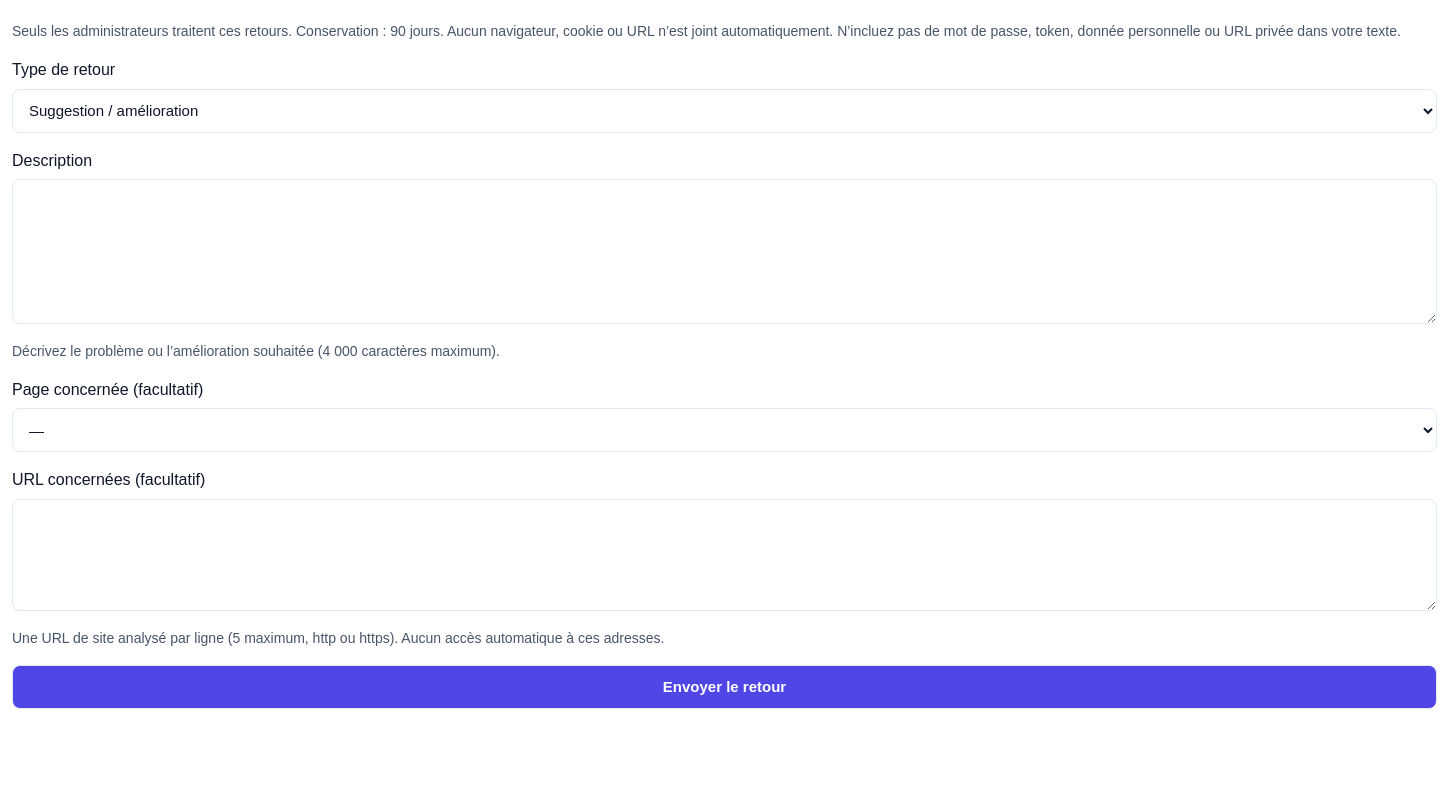
Test: explains a server-side anti-bot refusal and preserves the message for a fresh attempt
Step 1. Type "Preserved draft" into the text box labelled "Description" → (724, 251), box [12,179,1437,324]
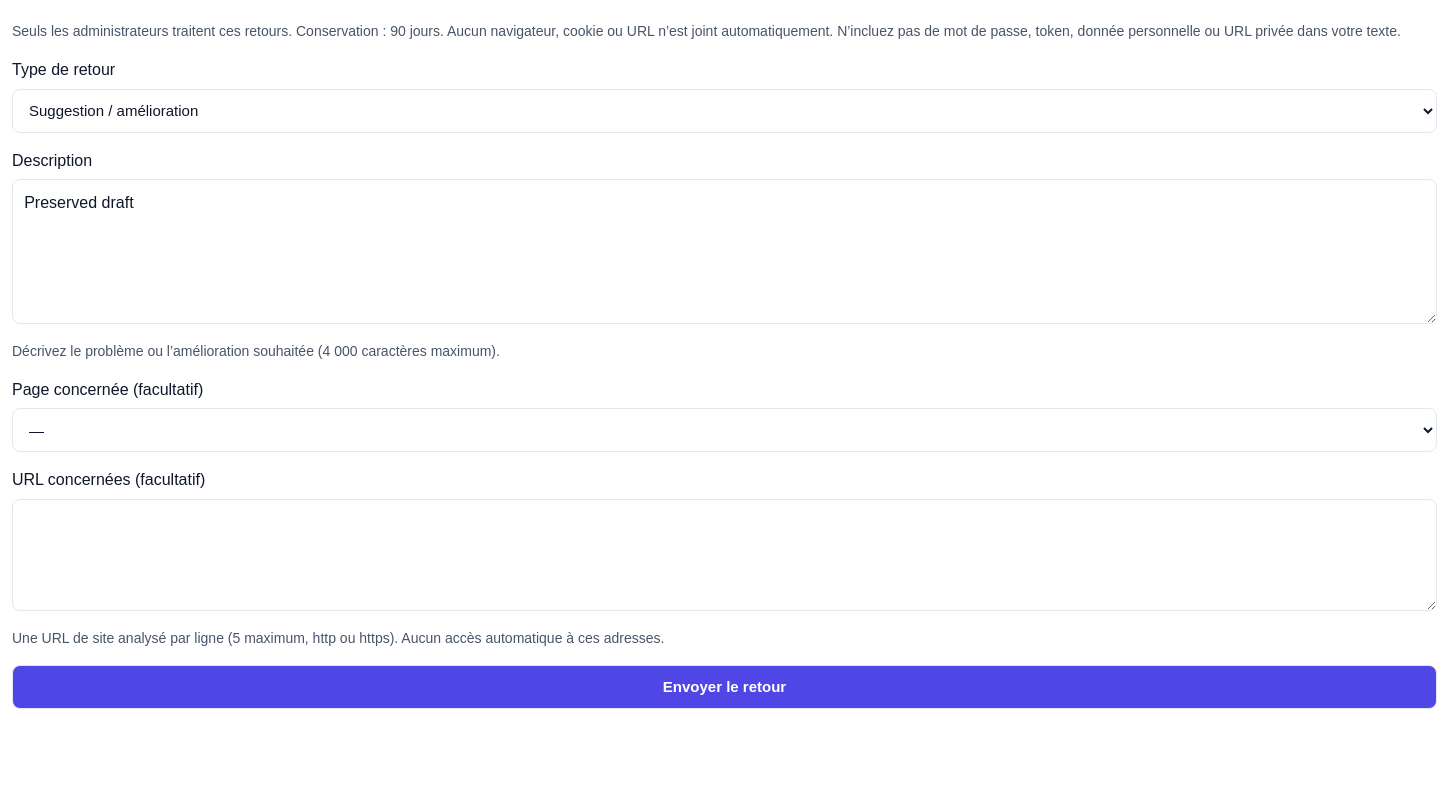
Step 2. Click the button "Envoyer le retour" → (724, 687), box [12,665,1437,709]
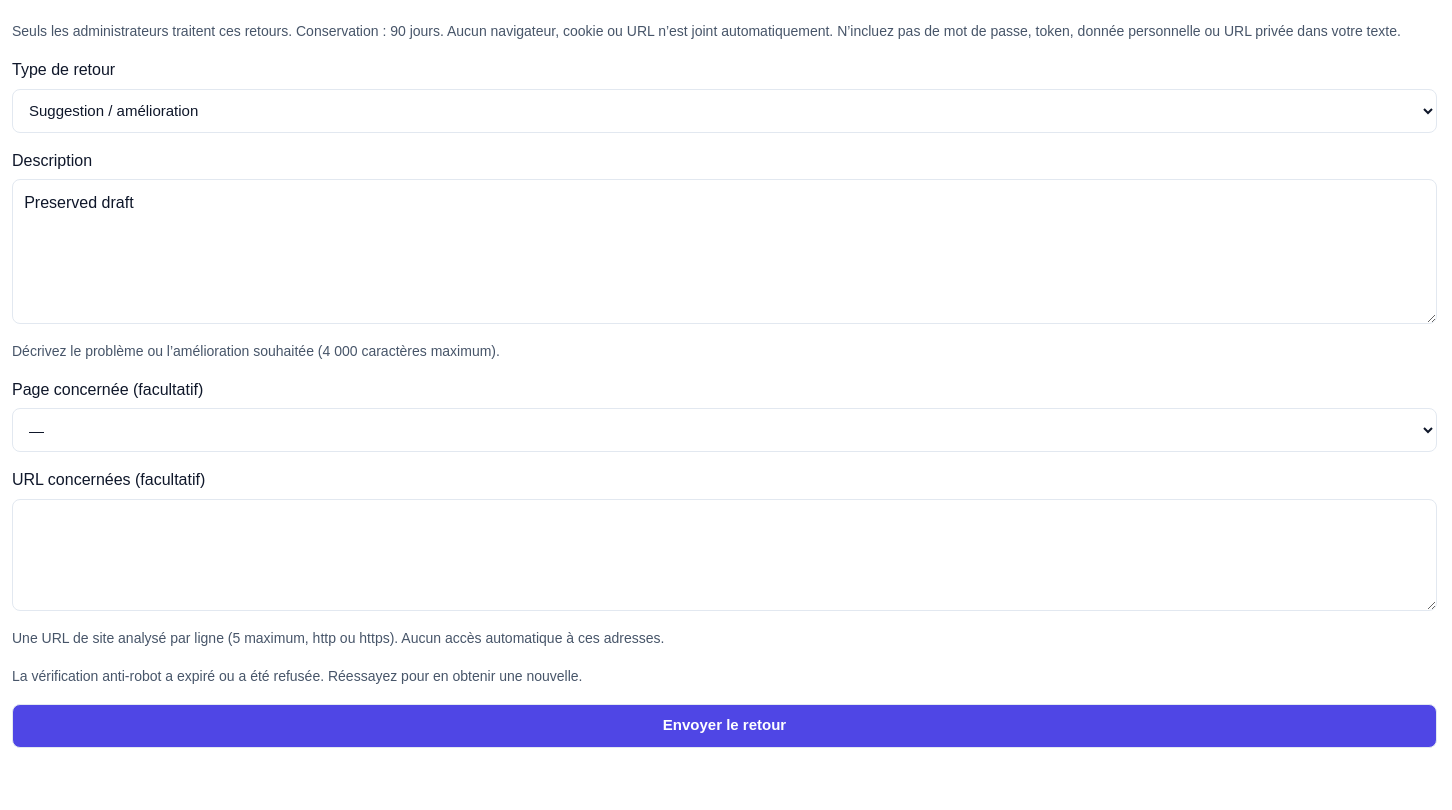
Now the message shows "La vérification anti-robot a expiré ou a été refusée", box [12,668,582,684]
